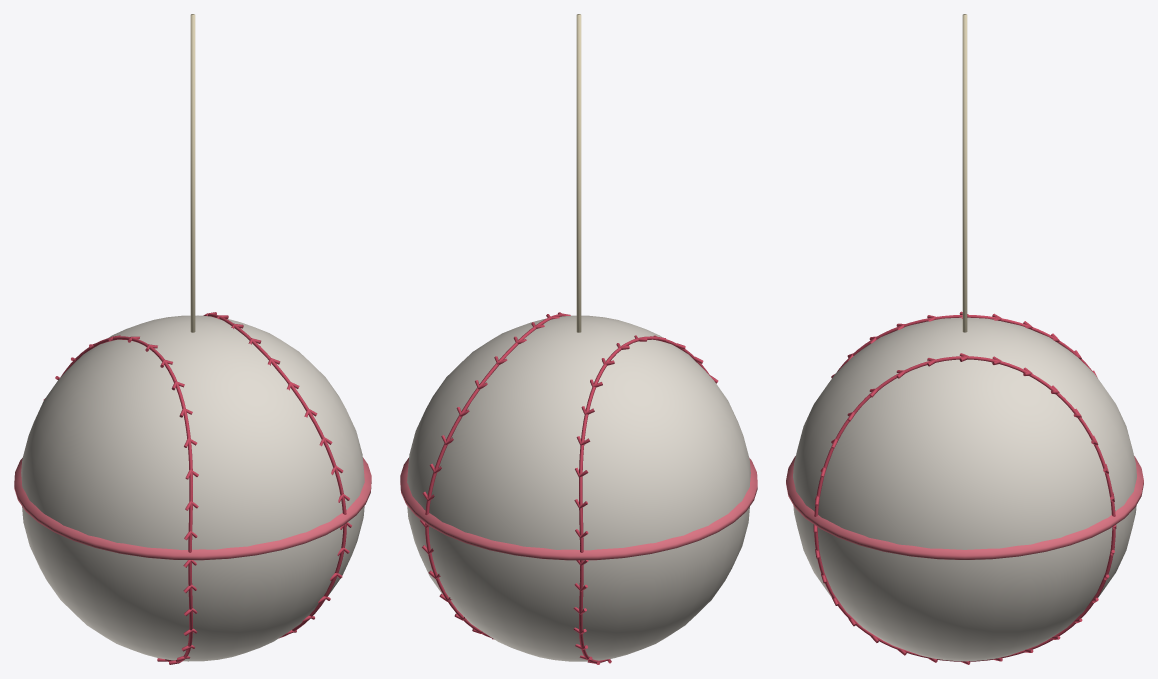
File: baseball.glb
3 views of the same model, side by side, from view 1: azimuth 30°, elevation 25°; view 2: azimuth 150°, elevation 25°; view 3: azimuth 270°, elevation 25° (orthographic).
Visible parts, largest first — view 1: baseball.Moving.vinyl, baseball.Static.vinyl, baseball.Tether.vinyl; view 2: baseball.Moving.vinyl, baseball.Static.vinyl, baseball.Tether.vinyl; view 3: baseball.Moving.vinyl, baseball.Static.vinyl, baseball.Tether.vinyl.
Part boxes in pixels (left/top/right/bottom): baseball.Moving.vinyl: left=21, top=312, right=364, bottom=664; baseball.Static.vinyl: left=14, top=457, right=371, bottom=560; baseball.Tether.vinyl: left=190, top=14, right=195, bottom=332; baseball.Moving.vinyl: left=407, top=312, right=750, bottom=664; baseball.Static.vinyl: left=400, top=458, right=757, bottom=560; baseball.Tether.vinyl: left=576, top=14, right=581, bottom=332; baseball.Moving.vinyl: left=793, top=311, right=1136, bottom=664; baseball.Static.vinyl: left=786, top=456, right=1143, bottom=559; baseball.Tether.vinyl: left=962, top=14, right=967, bottom=332.
Size of the model in its own units: 12.4 by 24.18 by 12.4.
